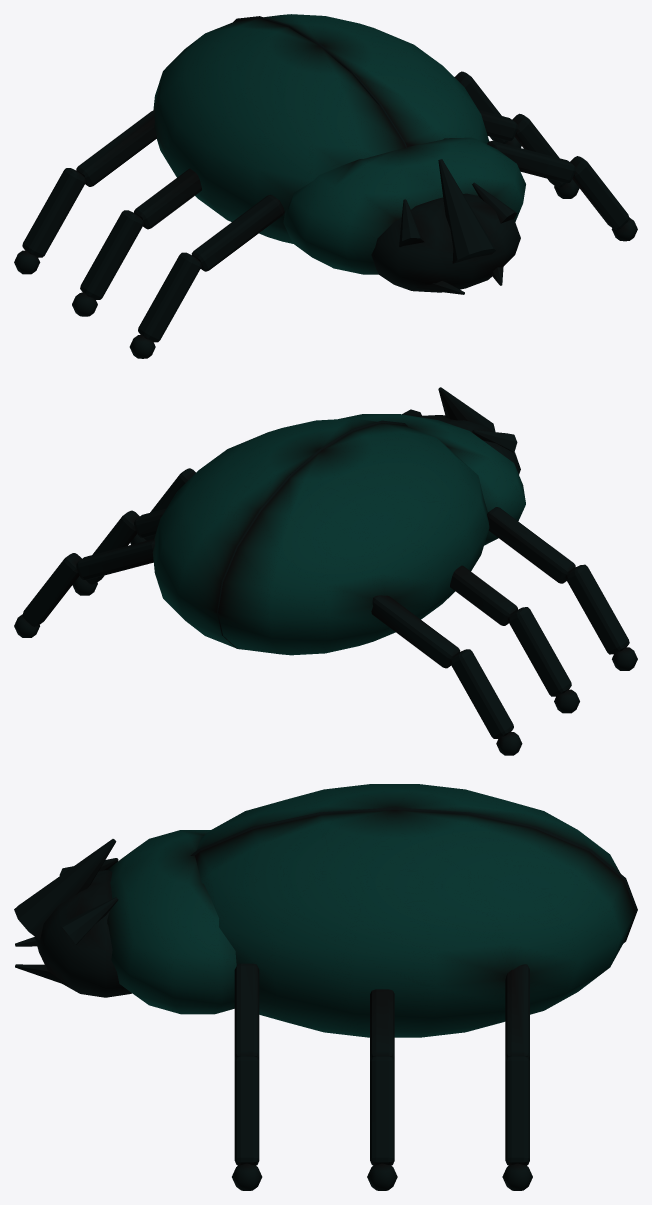
Rendered from beetle.glb.
3 views of the same model, one above another, from view 1: azimuth 30°, elevation 25°; view 2: azimuth 150°, elevation 25°; view 3: azimuth 270°, elevation 25° (orthographic). The views are drawn at different scales.
Parts seen in each view (by area): view 1: body, leg_L2, leg_L0, leg_L1, leg_R2, leg_R1, leg_R0; view 2: body, leg_L2, leg_L0, leg_L1, leg_R0, leg_R1, leg_R2; view 3: body, leg_R2, leg_R0, leg_R1.
Boxes of the visible parts, x1,y1,x2,y2 form: body: (153,14,525,294); leg_L2: (129,194,284,358); leg_L0: (14,110,156,274); leg_L1: (72,168,201,316); leg_R2: (487,141,637,241); leg_R1: (478,110,579,198); leg_R0: (454,71,521,147); body: (152,387,525,655); leg_L2: (487,507,637,670); leg_L0: (371,595,522,755); leg_L1: (450,565,579,713); leg_R0: (14,539,154,637); leg_R1: (72,508,166,595); leg_R2: (130,468,195,544); body: (14,784,637,1037); leg_R2: (232,963,262,1190); leg_R0: (502,964,532,1190); leg_R1: (367,989,397,1190).
Bounding box in the file's own units: 1.1 × 0.4407 × 1.01.
Materials: 1 (1 with a texture image).
